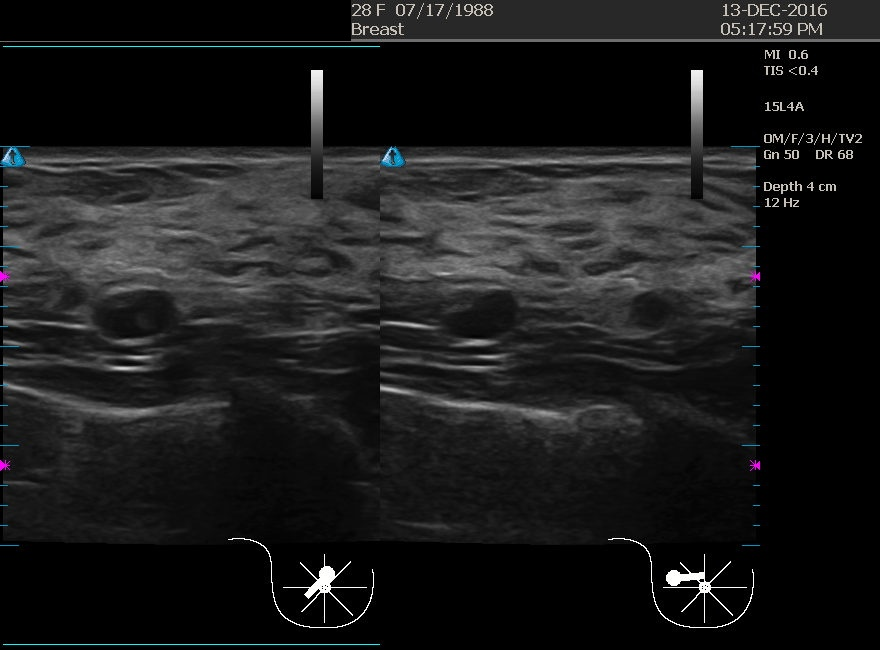BIRADS_2: (38, 220, 230, 412), (383, 226, 575, 418)
